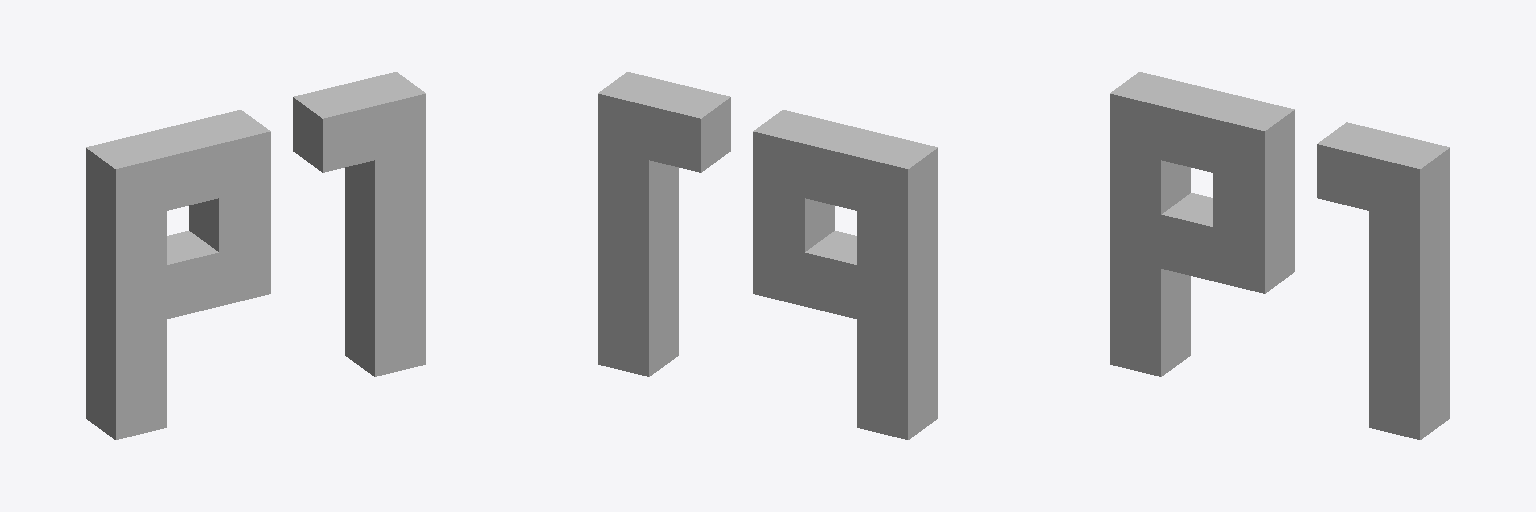
Rendered from Player 1 Icon.obj.
The picture shows the model from 3 angles: view 1: azimuth 30°, elevation 25°; view 2: azimuth 150°, elevation 25°; view 3: azimuth 330°, elevation 25°; orthographic projection.
Visible parts, largest first — view 1: object 1; view 2: object 1; view 3: object 1.
Part boxes in pixels (x1,y1,x2,y2): object 1: (86, 72, 425, 439); object 1: (598, 72, 937, 439); object 1: (1110, 72, 1449, 439).
Size of the model in its own units: 0.6 by 0.5 by 0.1.